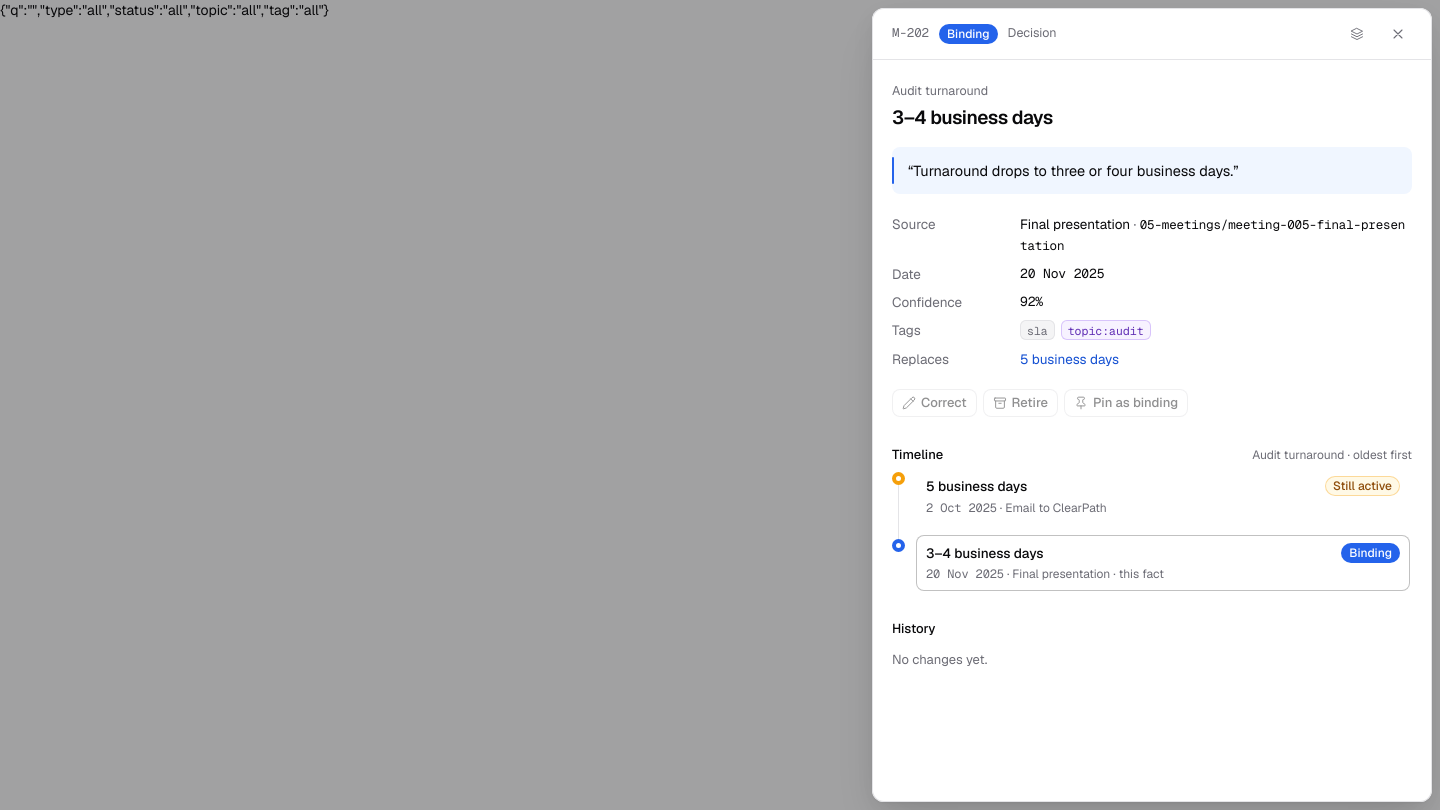
Test: FactDrawer › actions on offer › a viewer sees Correct greyed out and a click only explains why
Click the button "Correct" at (934, 403), box [892,389,977,417]
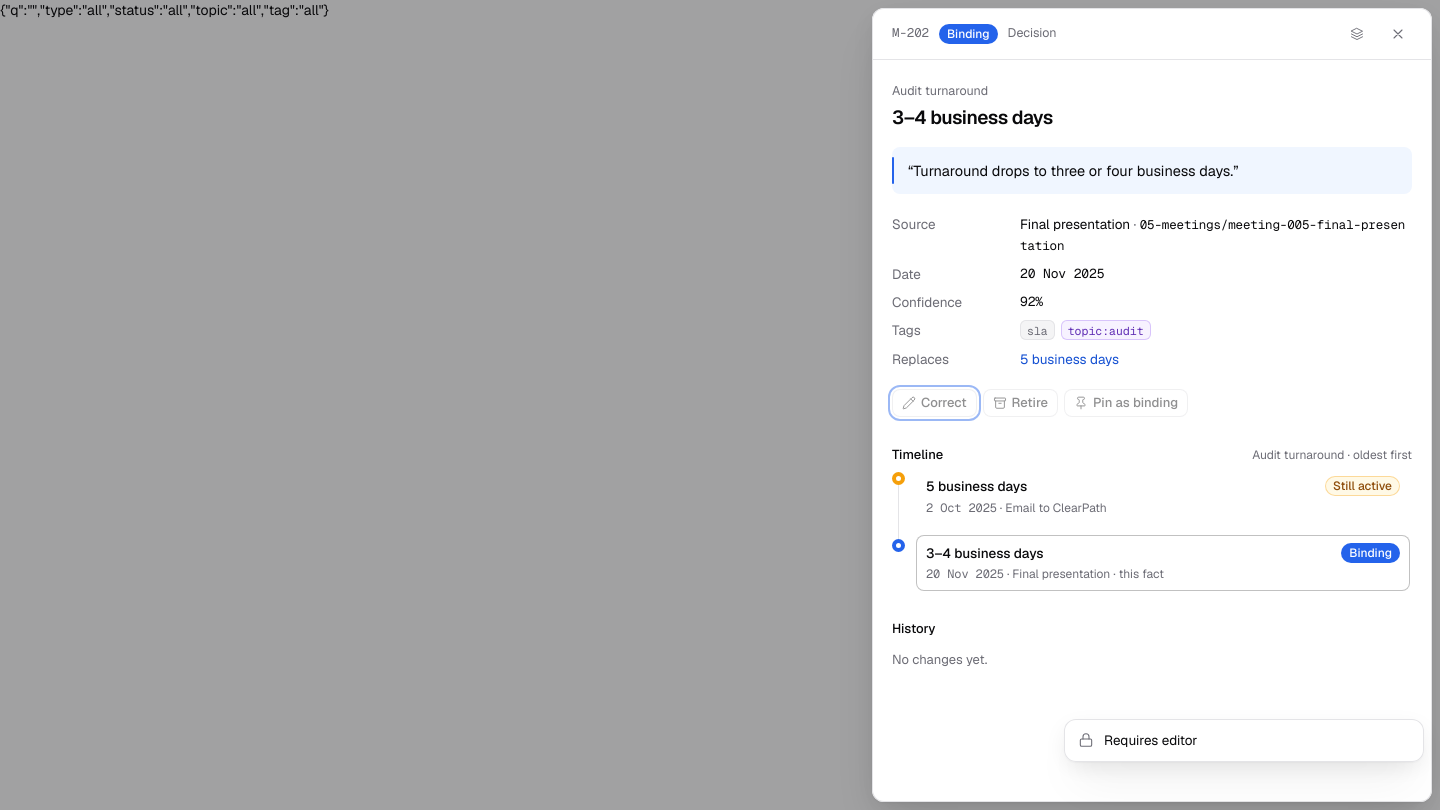
Expected: the text "Requires editor" is shown, [1104,731,1198,749]
